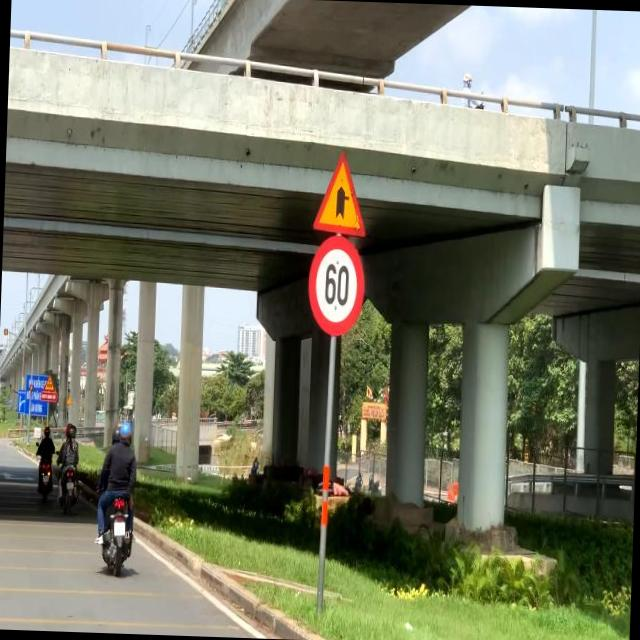P-127: (307, 234, 367, 336)
W-207b: (313, 144, 368, 234)
